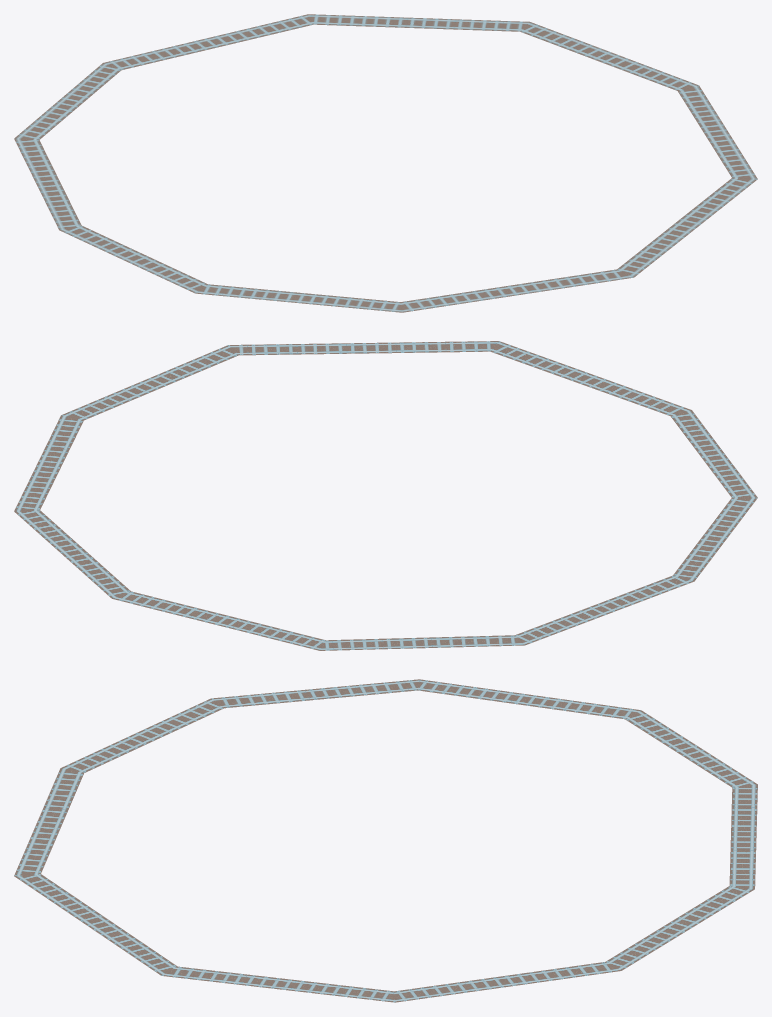
The model's file is kd_connection_world-inner_surface_16_18.glb.
3 renders of one model, top to bottom at view 1: azimuth 30°, elevation 25°; view 2: azimuth 150°, elevation 25°; view 3: azimuth 270°, elevation 25°, orthographic. The views are drawn at different scales.
Visible parts, largest first — view 1: kd_connection_world-inner_surface_16_18; view 2: kd_connection_world-inner_surface_16_18; view 3: kd_connection_world-inner_surface_16_18.
Part boxes in pixels (box(x1,y1,x2,y2)): kd_connection_world-inner_surface_16_18: box(14, 14, 757, 312); kd_connection_world-inner_surface_16_18: box(14, 341, 757, 650); kd_connection_world-inner_surface_16_18: box(14, 679, 757, 1002).
Size of the model in its own units: 84.09 by 9.54e-07 by 81.77.
Materials: 1 (1 with a texture image).
